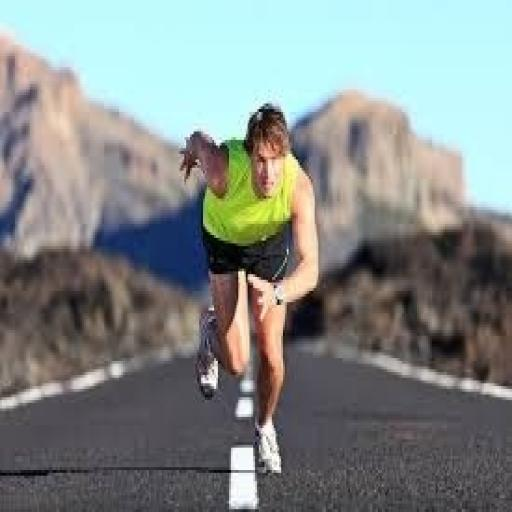running: (177, 101, 322, 478)
